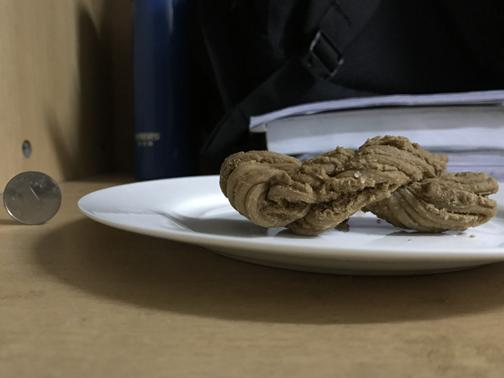coin: (3, 171, 61, 225)
fired_dough_twist: (223, 138, 496, 234)
